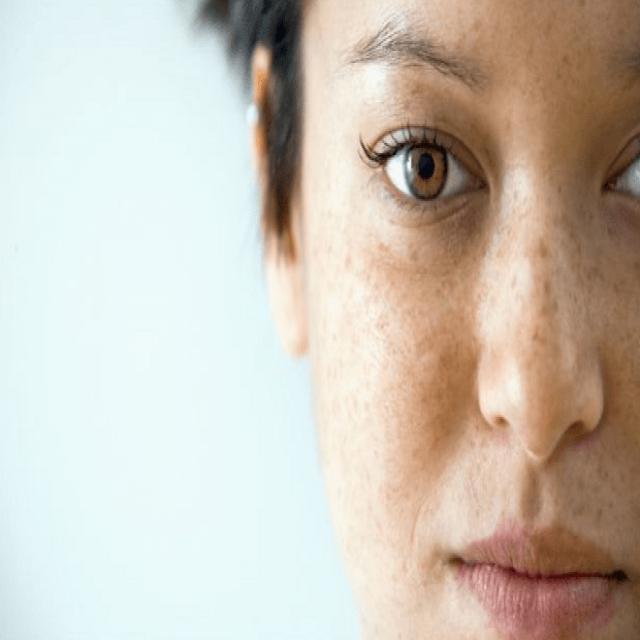darkspot: (314, 235, 638, 553), (379, 0, 635, 126), (500, 167, 598, 228)
